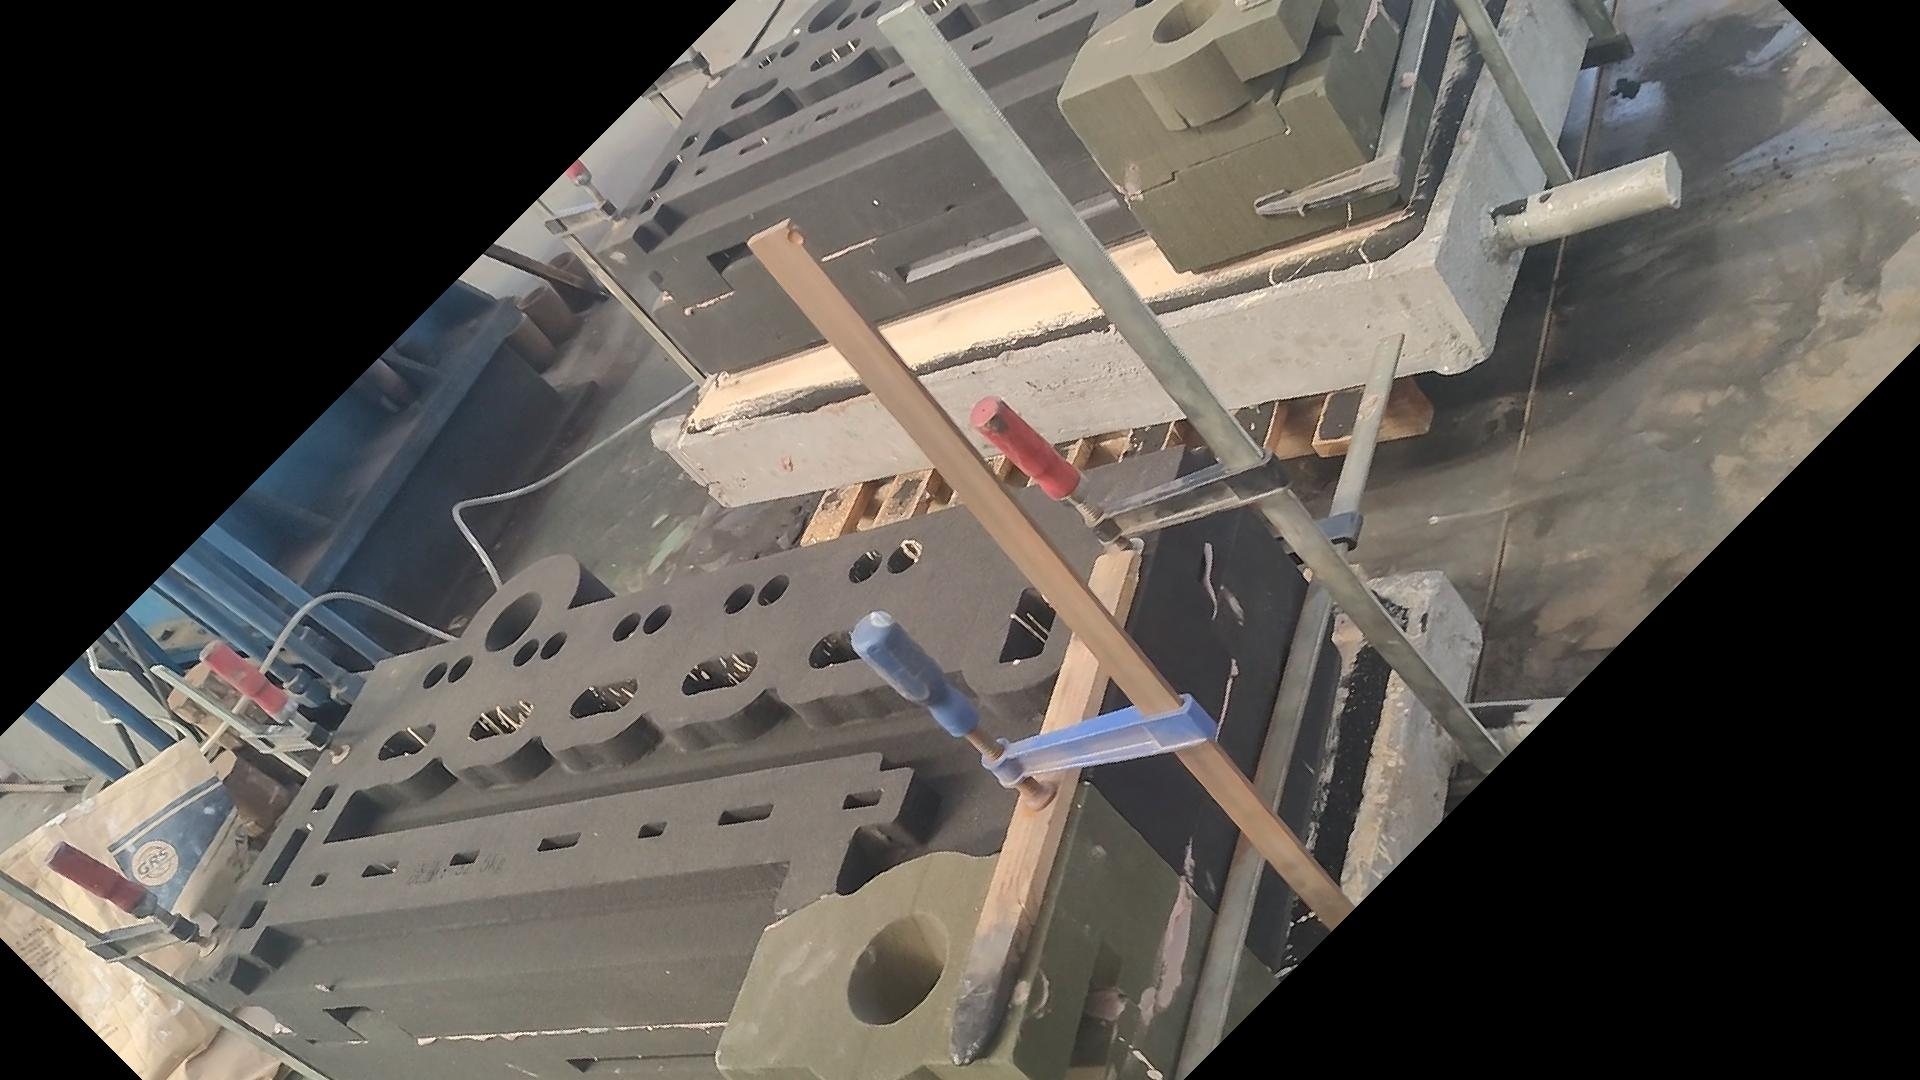pouring hole: (847, 910, 949, 1025), (484, 591, 541, 650), (1153, 1, 1224, 44), (807, 1, 852, 34), (495, 311, 526, 338), (542, 249, 574, 270), (518, 285, 546, 306), (483, 293, 520, 306)
